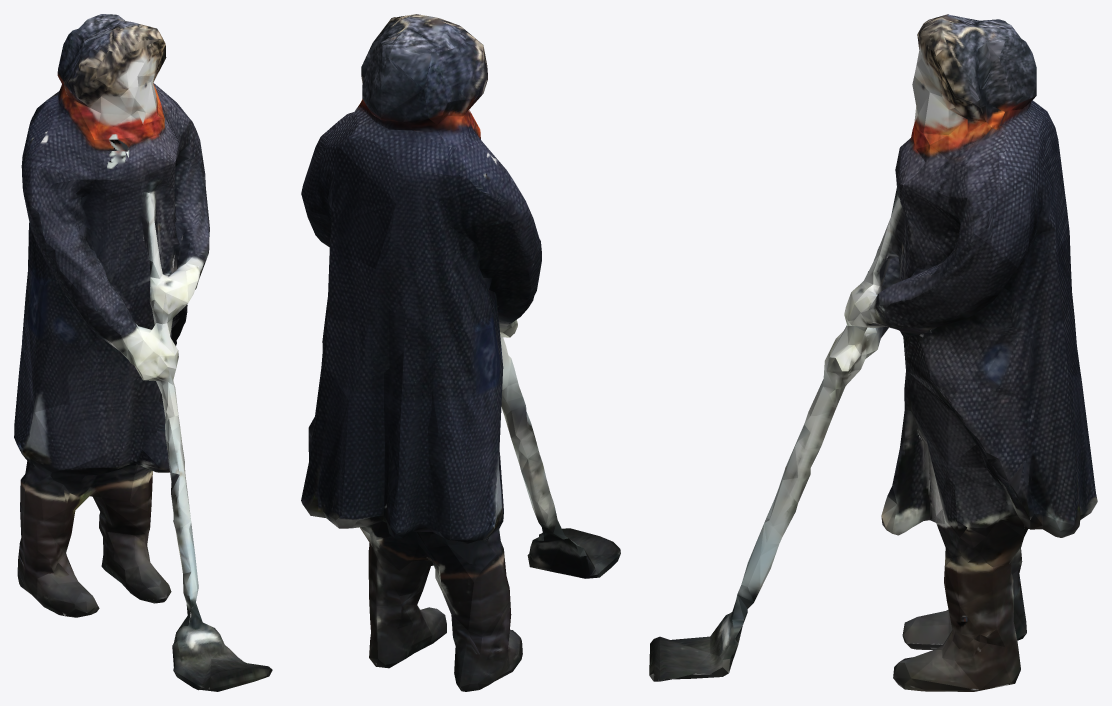
Rendered from kakashi_24b.fbx.
3 views of the same model, side by side, from view 1: azimuth 30°, elevation 25°; view 2: azimuth 150°, elevation 25°; view 3: azimuth 270°, elevation 25° (orthographic). The views are drawn at different scales.
Visible parts, largest first — view 1: kakashi_24:Mesh; view 2: kakashi_24:Mesh; view 3: kakashi_24:Mesh.
Part boxes in pixels (x1=…): kakashi_24:Mesh: x1=14, y1=14, x2=272, y2=691; kakashi_24:Mesh: x1=301, y1=14, x2=620, y2=691; kakashi_24:Mesh: x1=649, y1=14, x2=1097, y2=691.
Size of the model in its own units: 9.08 by 26.56 by 16.4.
Materials: 1 (1 with a texture image).
